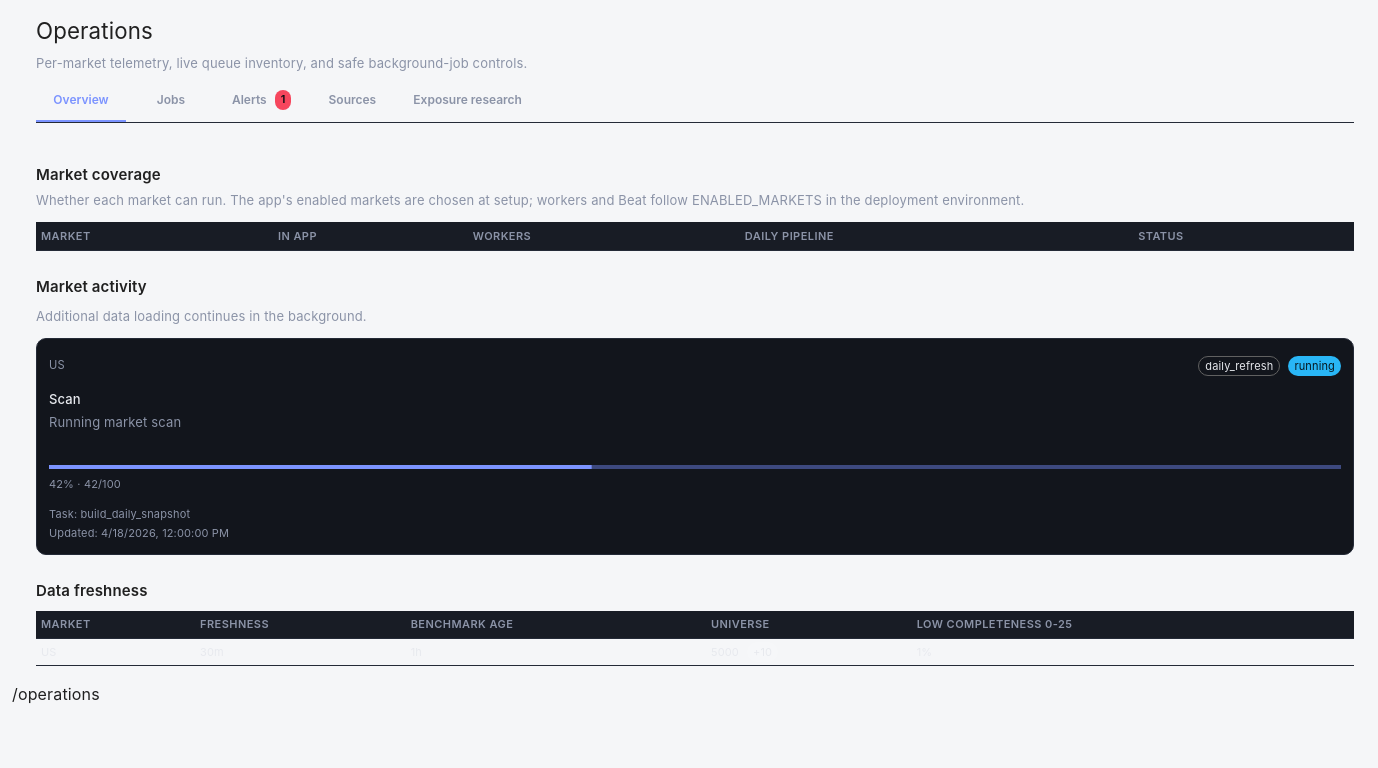
OperationsPage › tabs › shows the open-alert count on the Alerts tab and the alerts table once it is selected
Expected: the text "1" is shown, x1=281 y1=92 x2=285 y2=106
Expected: the column heading "Severity" is not shown
What coordinates should you click on to do the following:
click the tab "Alerts 1"
I would click on:
 (262, 100)
Its box is x1=216 y1=78 x2=307 y2=122.
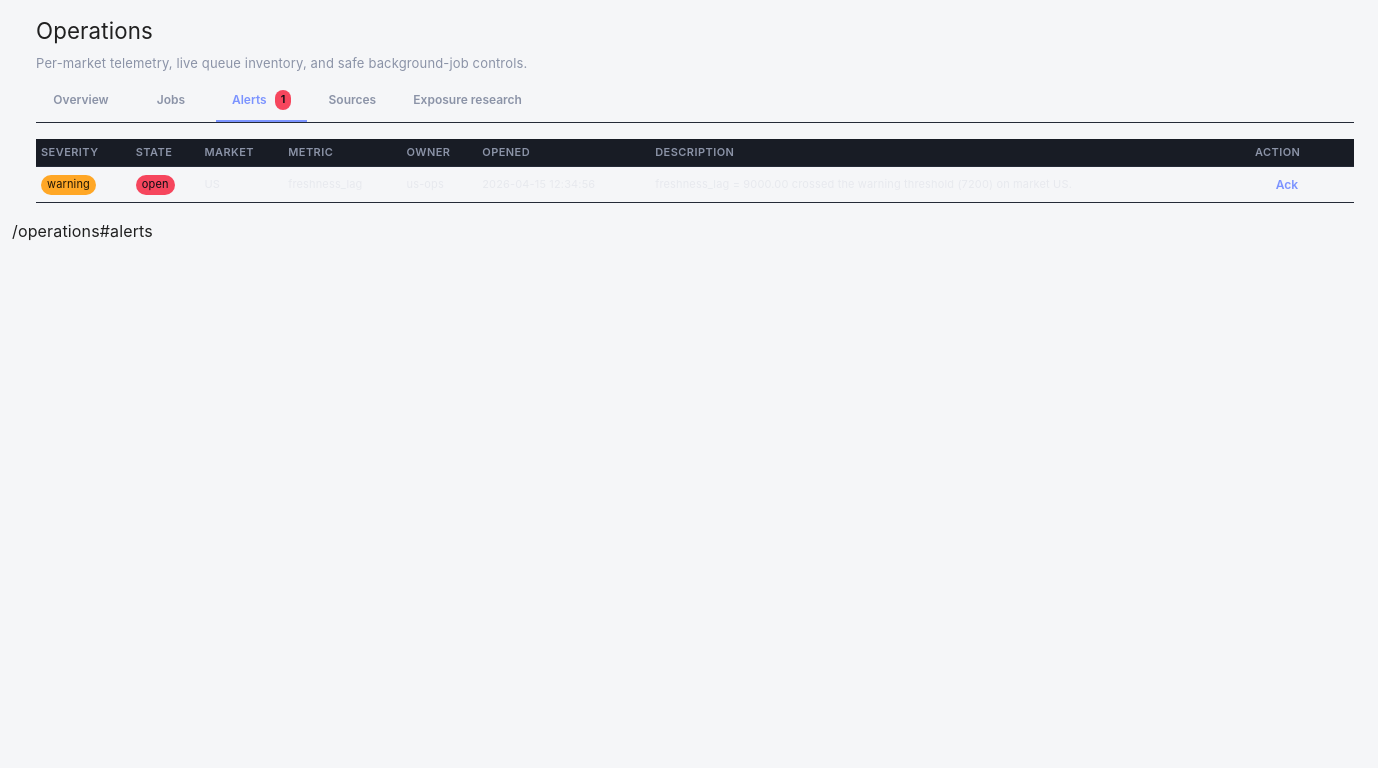
Result: the column heading "Severity" is shown at x1=36 y1=139 x2=131 y2=167
Result: the text "us-ops" is shown at x1=402 y1=167 x2=477 y2=203
Result: the text with test id "location" reads "/operations#alerts" at x1=12 y1=221 x2=153 y2=241
